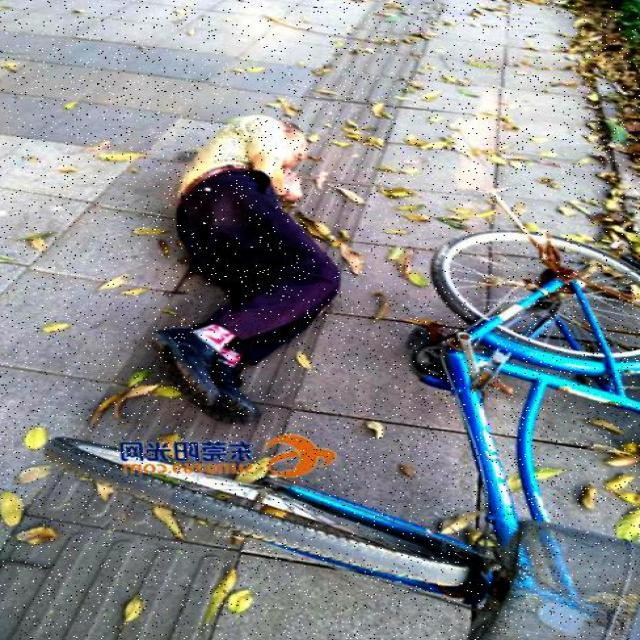fall: (155, 112, 324, 408)
